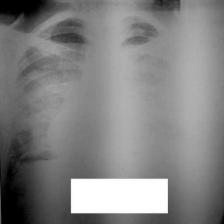tuberculosis: (3, 10, 167, 175)
